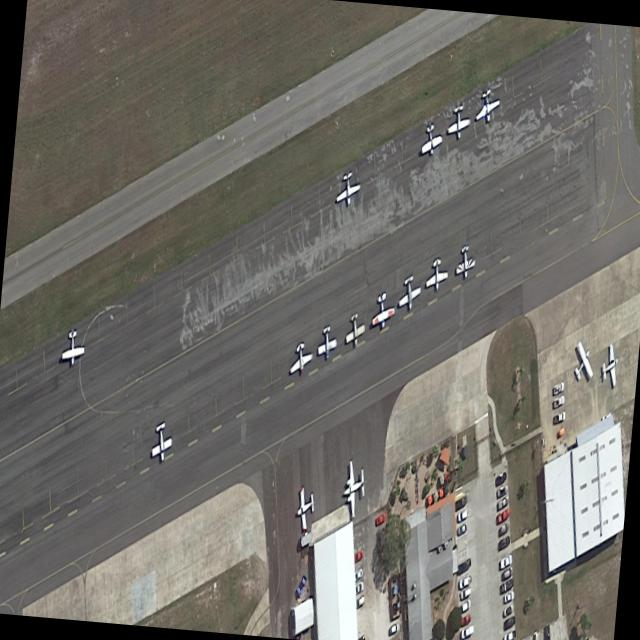plane: (343, 450, 365, 523), (569, 334, 595, 395), (474, 83, 500, 129), (600, 336, 620, 395), (295, 478, 315, 537), (397, 269, 421, 318), (288, 335, 313, 380), (150, 417, 172, 468), (371, 287, 395, 333), (335, 167, 360, 210), (447, 99, 470, 143), (343, 306, 365, 352), (62, 323, 84, 369), (420, 119, 443, 160), (425, 253, 447, 295), (455, 240, 475, 282), (317, 323, 336, 363)
small-vehicle: (457, 556, 471, 576), (500, 576, 514, 594), (461, 622, 474, 640), (500, 552, 512, 570), (459, 596, 471, 614), (496, 482, 508, 500), (552, 409, 566, 424), (497, 507, 509, 524), (498, 533, 510, 550), (495, 469, 506, 487), (503, 615, 515, 631), (455, 494, 466, 511), (498, 520, 509, 537), (553, 379, 564, 396), (354, 579, 364, 597), (460, 585, 471, 601), (459, 573, 470, 589), (502, 565, 513, 581), (498, 494, 509, 510), (503, 602, 513, 619), (503, 627, 516, 640), (553, 393, 564, 408), (458, 506, 468, 522), (456, 521, 466, 537), (353, 548, 363, 563), (353, 568, 363, 583), (461, 612, 471, 627), (389, 621, 399, 636), (376, 511, 386, 526), (504, 588, 514, 603), (356, 594, 364, 610), (544, 623, 550, 640), (533, 629, 538, 640)
